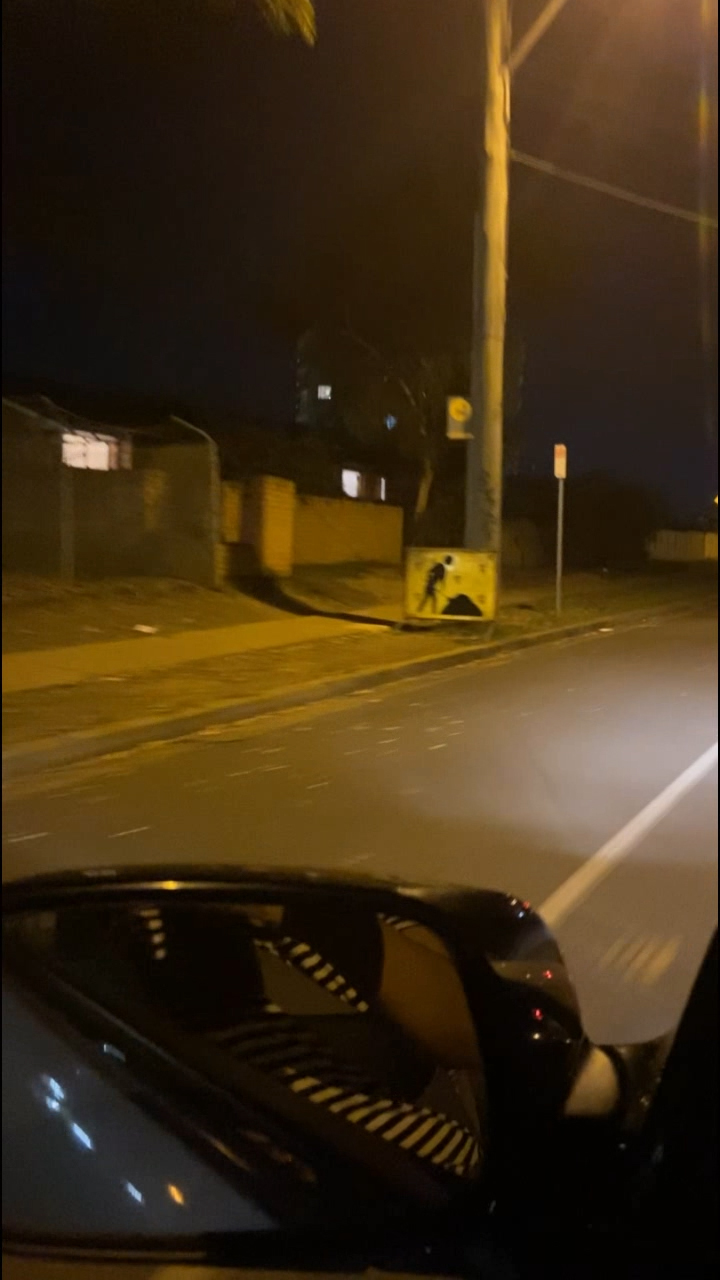road works sign board: (402, 550, 488, 623)
